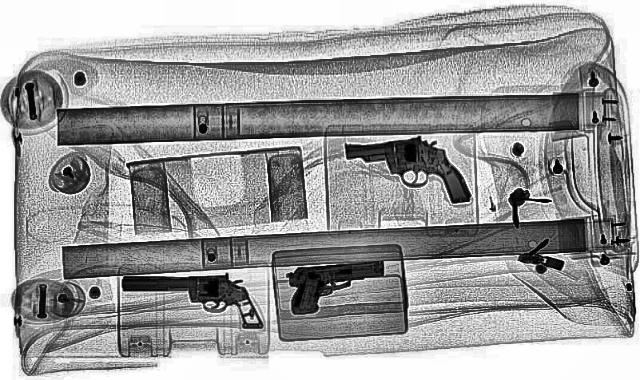Gun: (340, 134, 472, 212), (120, 272, 264, 332), (277, 258, 393, 314)
